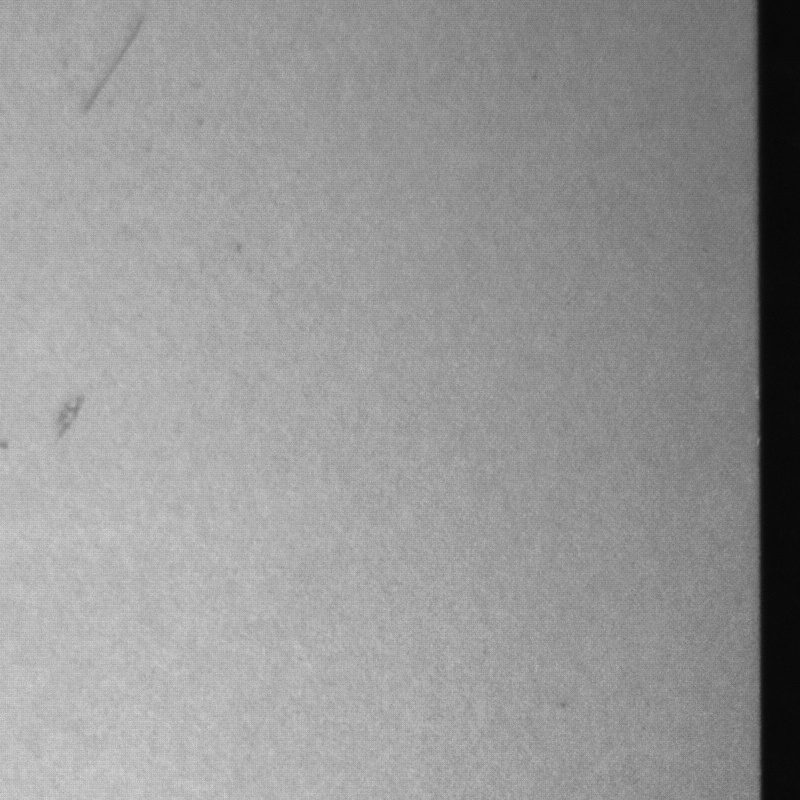defect: (81, 19, 140, 119), (57, 389, 92, 433), (1, 441, 11, 456)
